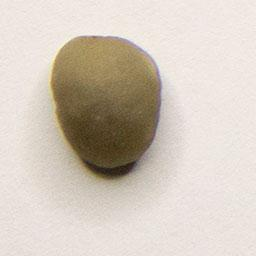peaberry: (48, 32, 165, 169)
